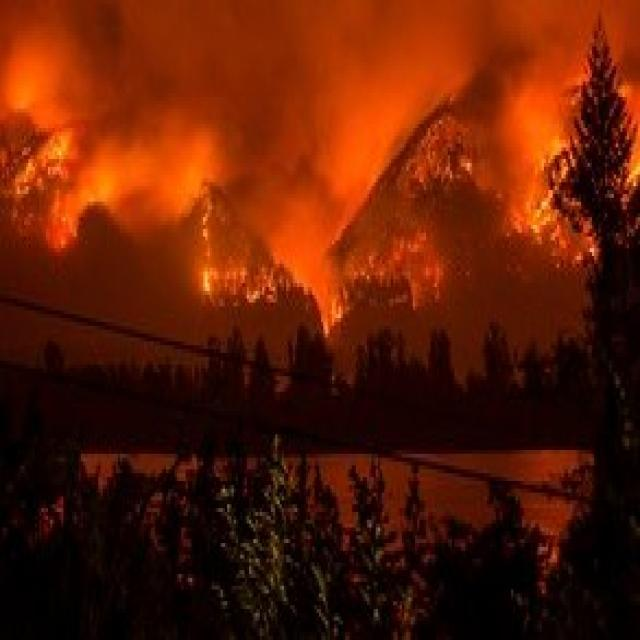Fire: (0, 85, 71, 221), (528, 138, 572, 232), (416, 114, 472, 186), (400, 247, 443, 304), (550, 224, 598, 274), (225, 262, 278, 306), (42, 198, 80, 256), (346, 251, 392, 286), (202, 182, 212, 255), (326, 295, 344, 334), (510, 202, 530, 234), (628, 160, 640, 190), (202, 268, 213, 295)
Smoke: (1, 0, 456, 121), (222, 130, 404, 256), (455, 0, 578, 144), (75, 129, 199, 235), (617, 9, 640, 83)
